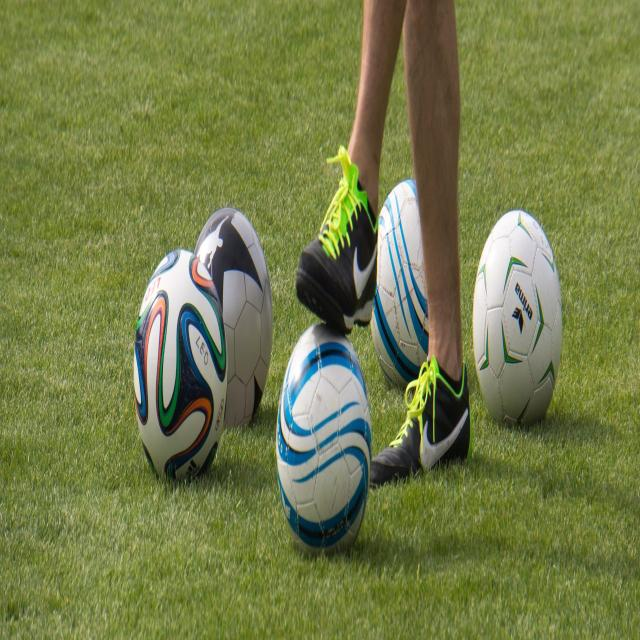soccer ball: (134, 248, 227, 486), (277, 322, 371, 552), (474, 213, 563, 430), (197, 207, 273, 428)
